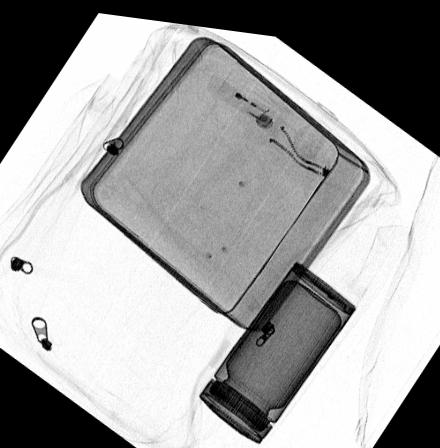Lighter: (204, 67, 274, 123)
